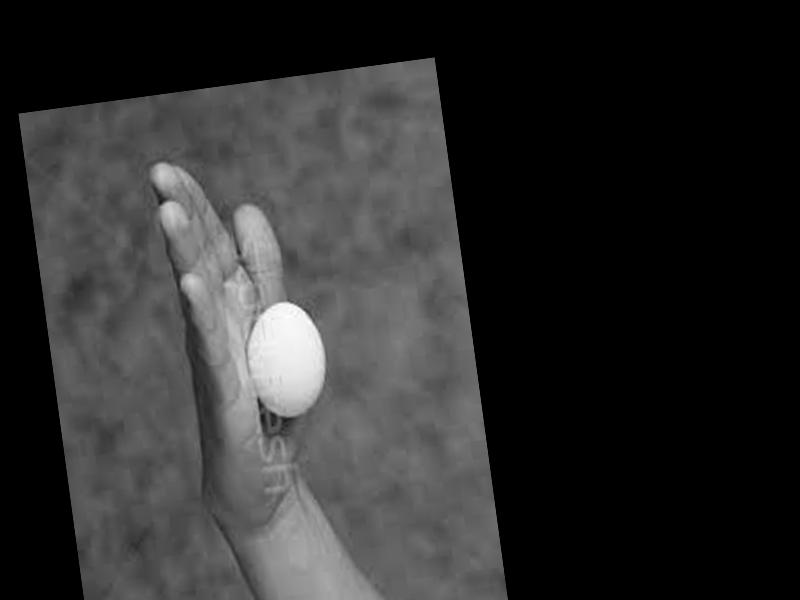Eggs: (240, 297, 334, 422)
